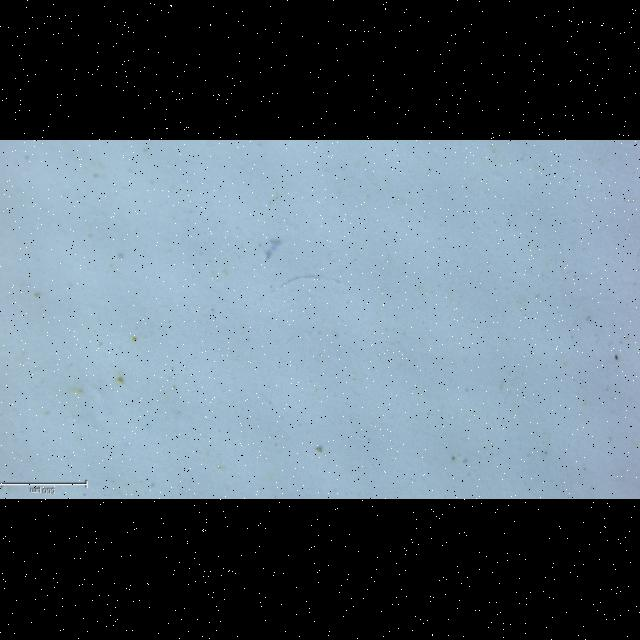Fibre: (271, 275, 342, 293)
Fragment: (265, 240, 280, 261)
